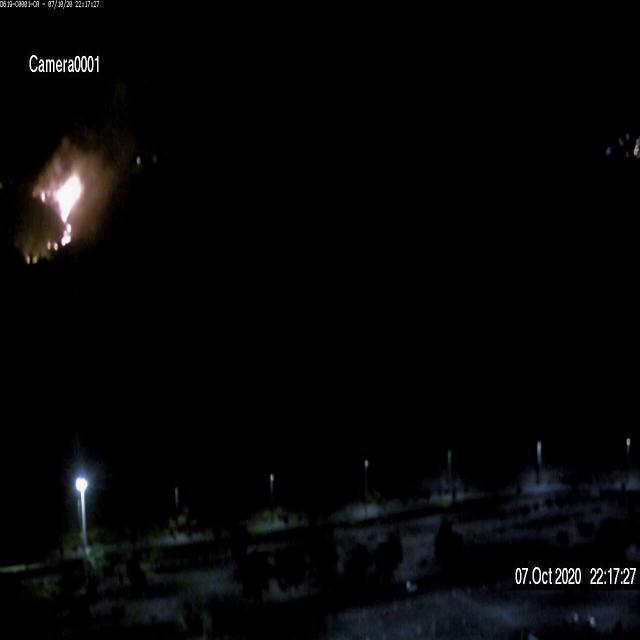Fire: (42, 162, 86, 256)
